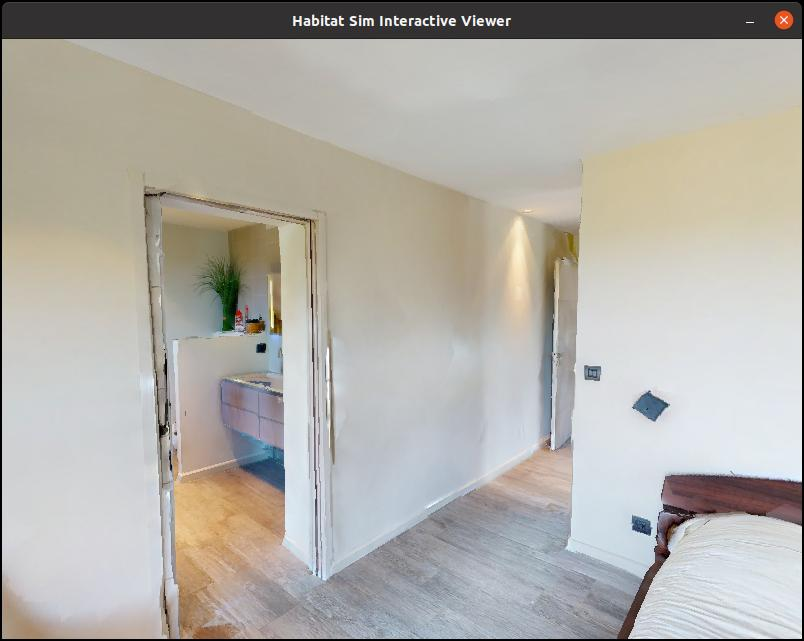door-frame: (123, 173, 357, 609)
